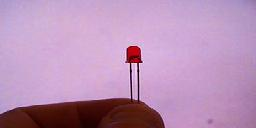LED: (125, 46, 142, 98)
